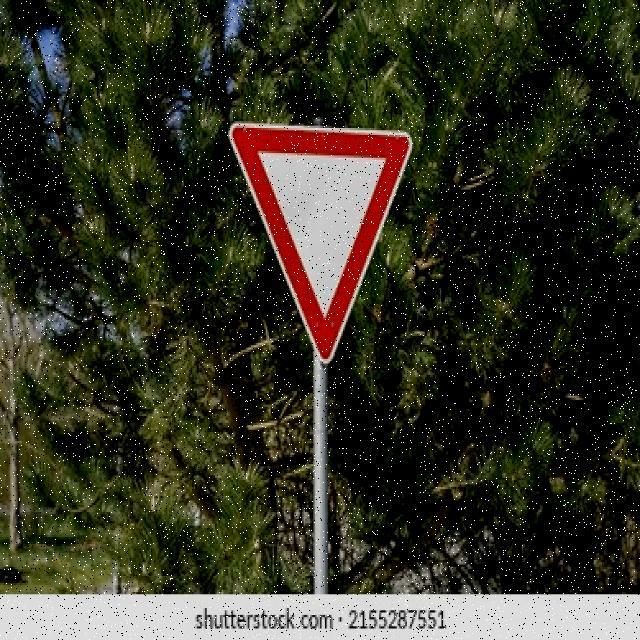Traffic sign: (223, 116, 416, 367)
